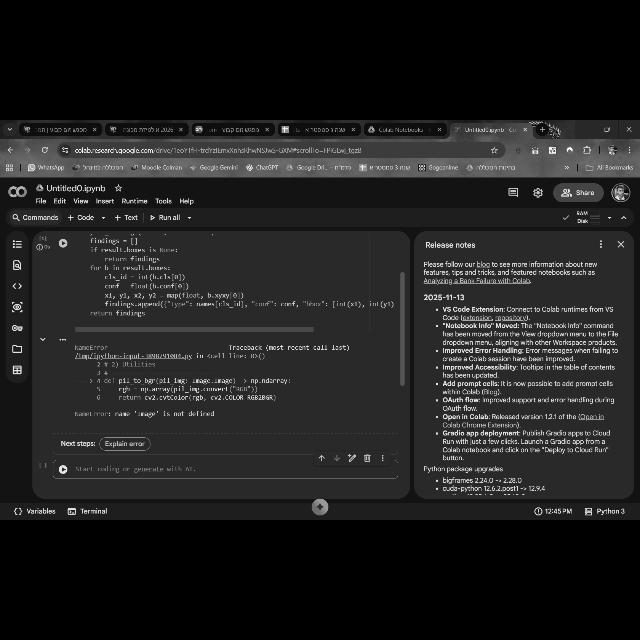code_screen: (37, 234, 397, 423)
